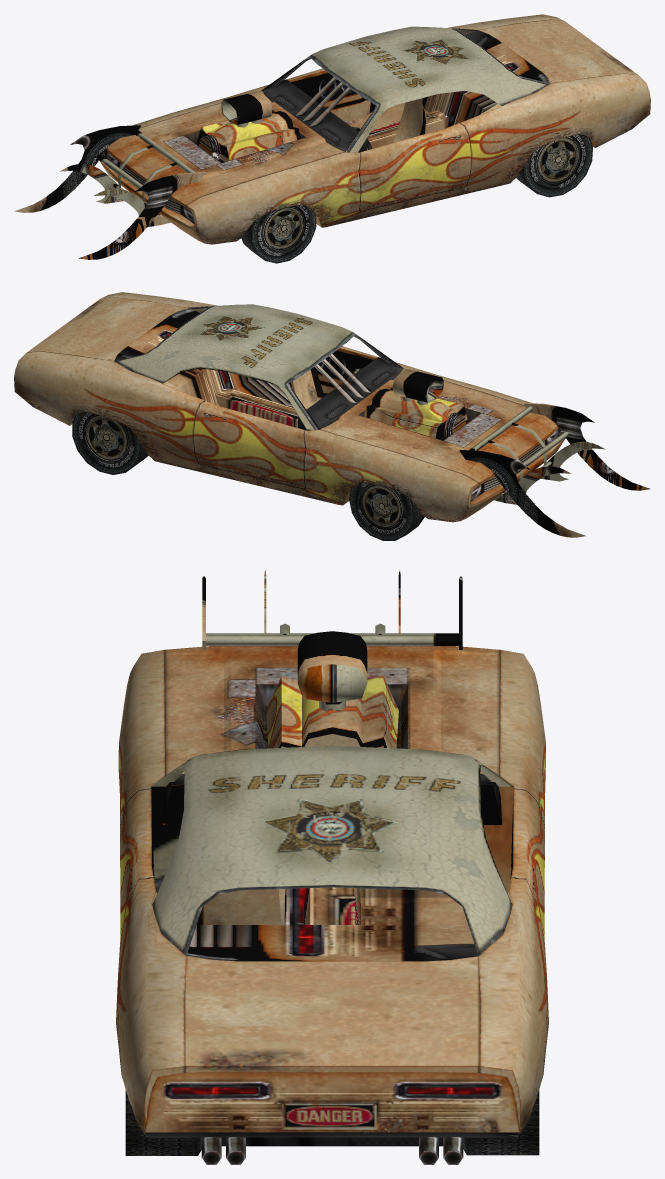
Rendered from carro_fbx.fbx.
3 renders of one model, top to bottom at view 1: azimuth 30°, elevation 25°; view 2: azimuth 150°, elevation 25°; view 3: azimuth 270°, elevation 25°, orthographic. The views are drawn at different scales.
Visible parts, largest first — view 1: body, wheel_02, wheel_01; view 2: body, wheel_03, wheel_04; view 3: body, wheel_02, wheel_03.
Part boxes in pixels (x1,y1,x2,y2): body: [14, 14, 650, 259]; wheel_02: [516, 134, 592, 197]; wheel_01: [241, 205, 316, 263]; body: [14, 292, 649, 537]; wheel_03: [72, 412, 148, 474]; wheel_04: [349, 483, 424, 540]; body: [116, 570, 548, 1164]; wheel_02: [125, 1090, 201, 1155]; wheel_03: [463, 1090, 539, 1155].
Bounding box in the file's own units: 24.97 × 5.42 × 8.4.
